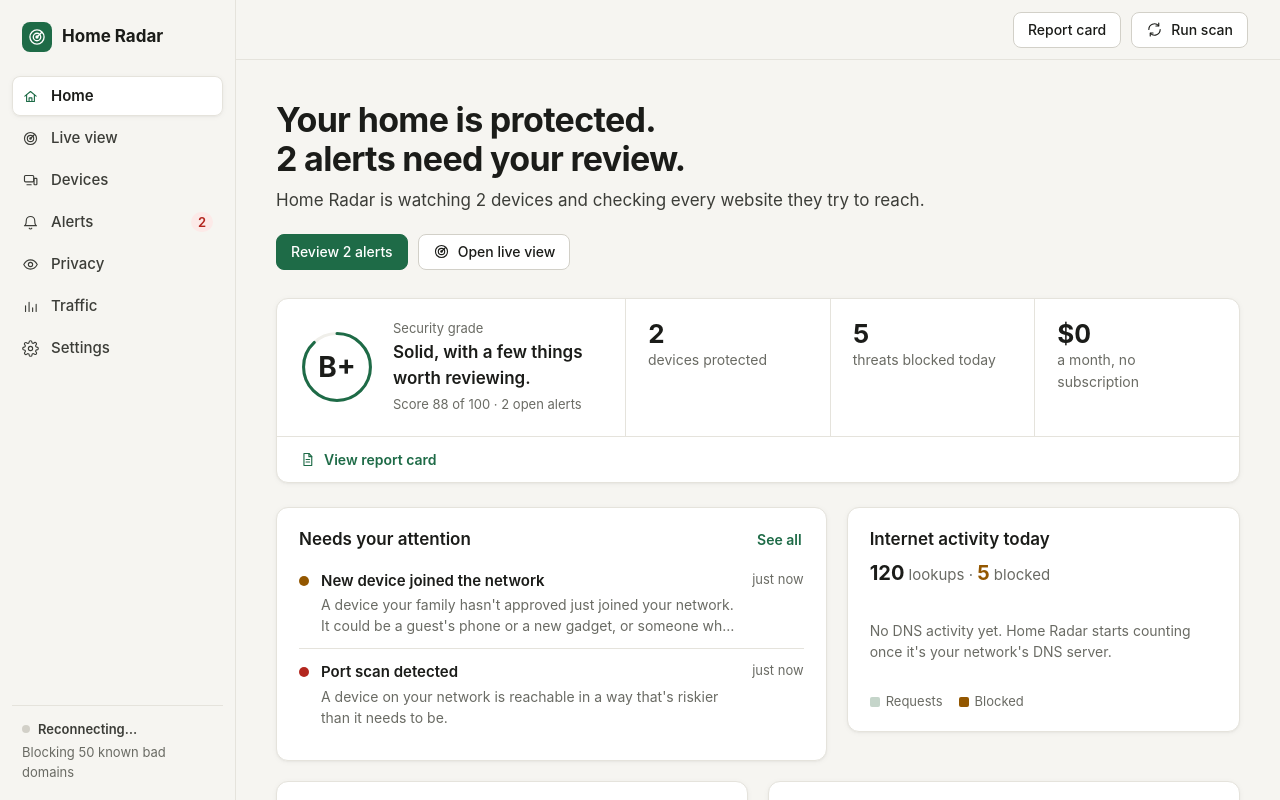
Scenario: Devices search filter › filters the device list to matching rows only
Click the button "Devices".
click(118, 180)  # box [12,160,223,200]
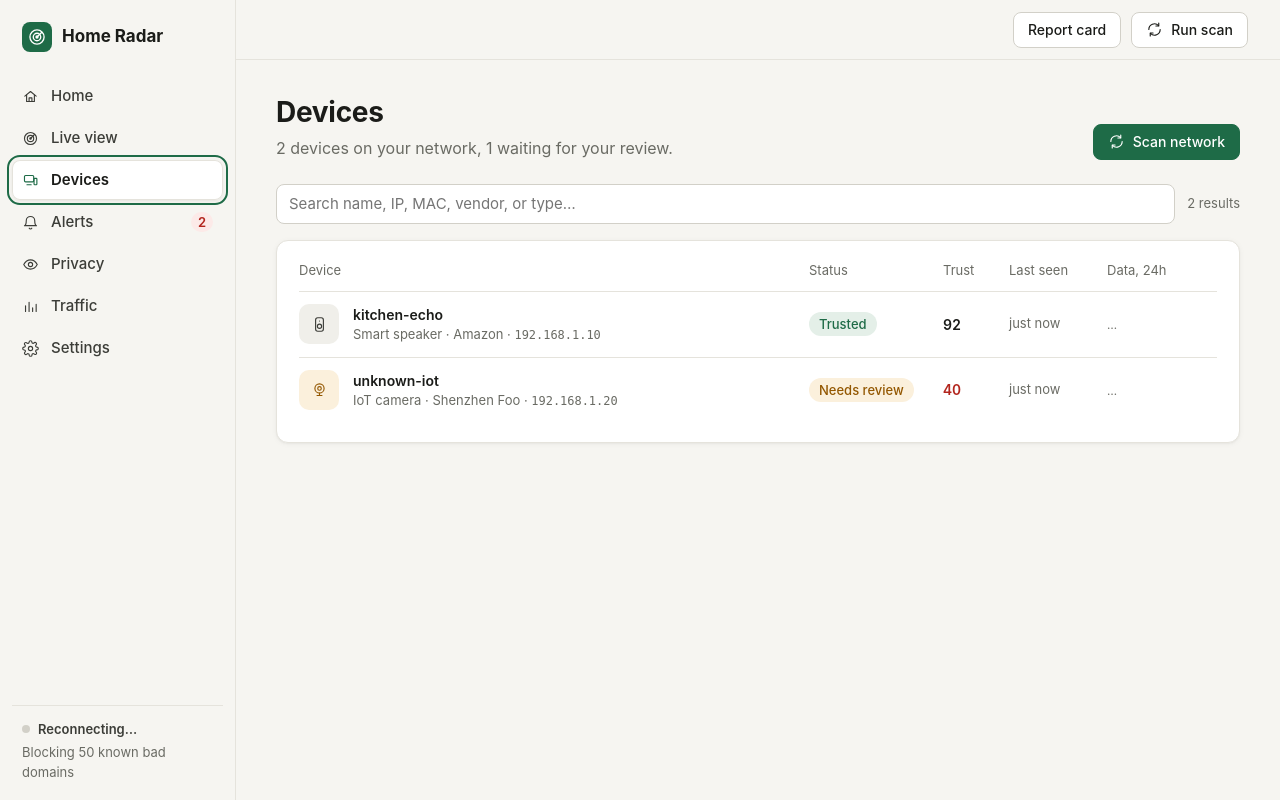
Expected: the text "kitchen-echo" is shown, [353,306,443,323]
Now the button "Scan network" is shown, box [1093,124,1240,160]
Type "kitchen" into the field with placeholder "Search name, IP, MAC, vendor, or type…".
click(726, 204); type("kitchen")  # box [276,184,1175,224]
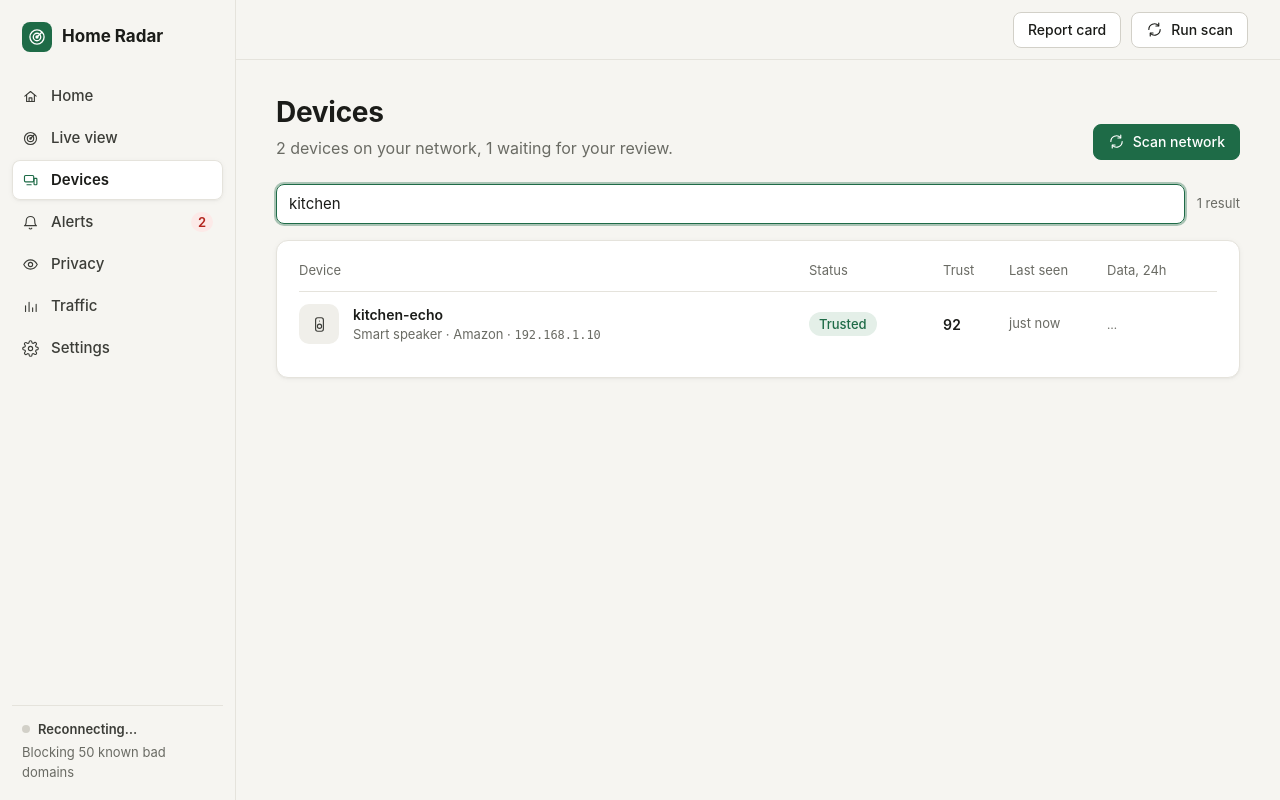
Expected: the text "kitchen-echo" is shown, [353,306,443,323]
Now the button "unknown-iot" is gone
